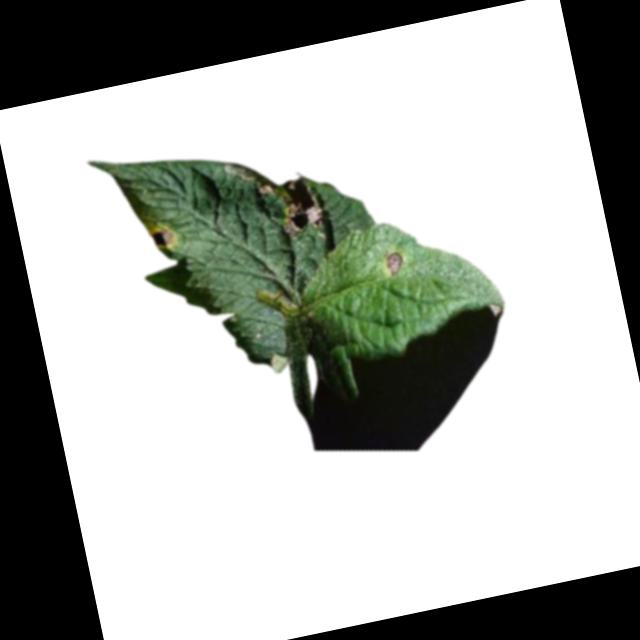Early_blight: (256, 169, 327, 241), (146, 221, 178, 252), (384, 249, 405, 277)
